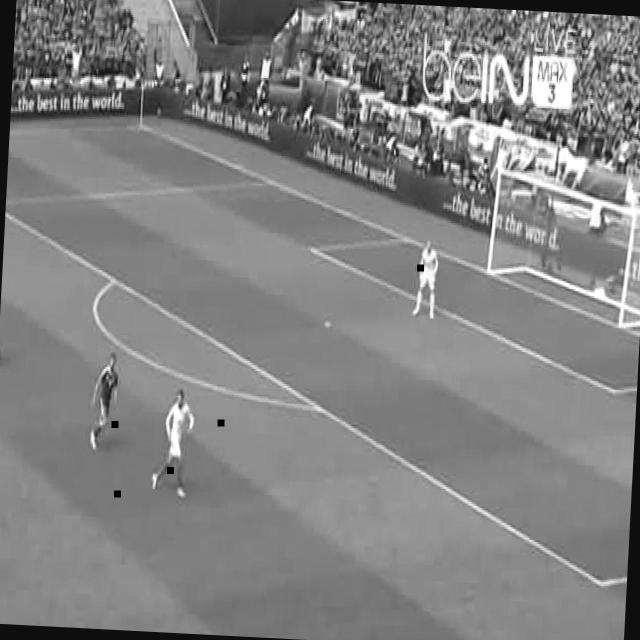player-white: (151, 387, 195, 499), (88, 352, 119, 452), (413, 240, 439, 320)
